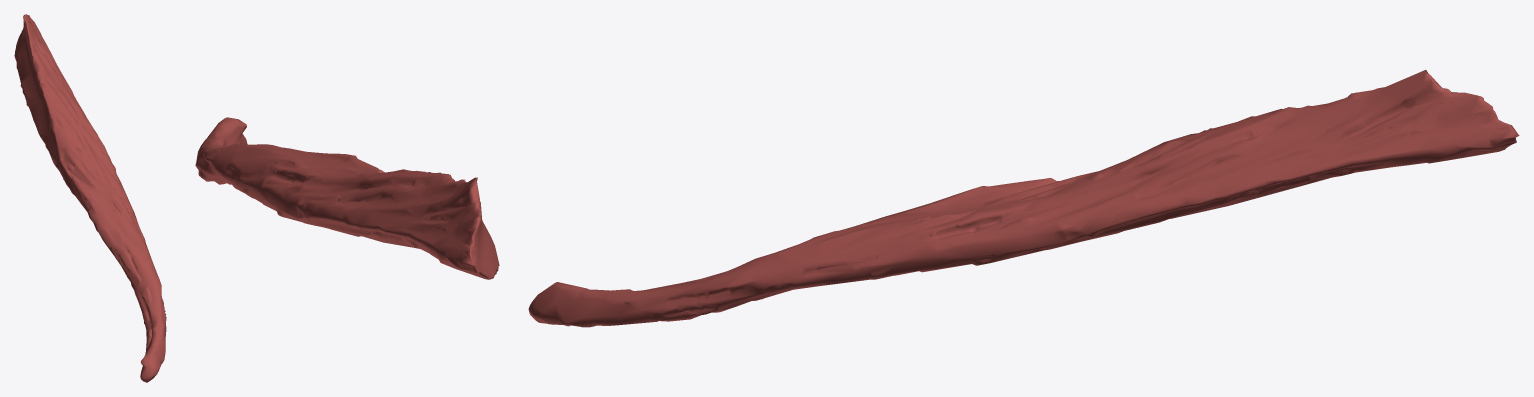
The model's file is FMA37743.glb.
3 renders of one model, left to right at view 1: azimuth 30°, elevation 25°; view 2: azimuth 210°, elevation 25°; view 3: azimuth 270°, elevation 25°, orthographic. The views are drawn at different scales.
Parts seen in each view (by area): view 1: FMA37743; view 2: FMA37743; view 3: FMA37743.
Part boxes in pixels (x1=…): FMA37743: x1=14, y1=14, x2=166, y2=382; FMA37743: x1=195, y1=117, x2=499, y2=279; FMA37743: x1=528, y1=70, x2=1519, y2=327.
Bounding box in the file's own units: 0.0161 × 0.0203 × 0.052.
